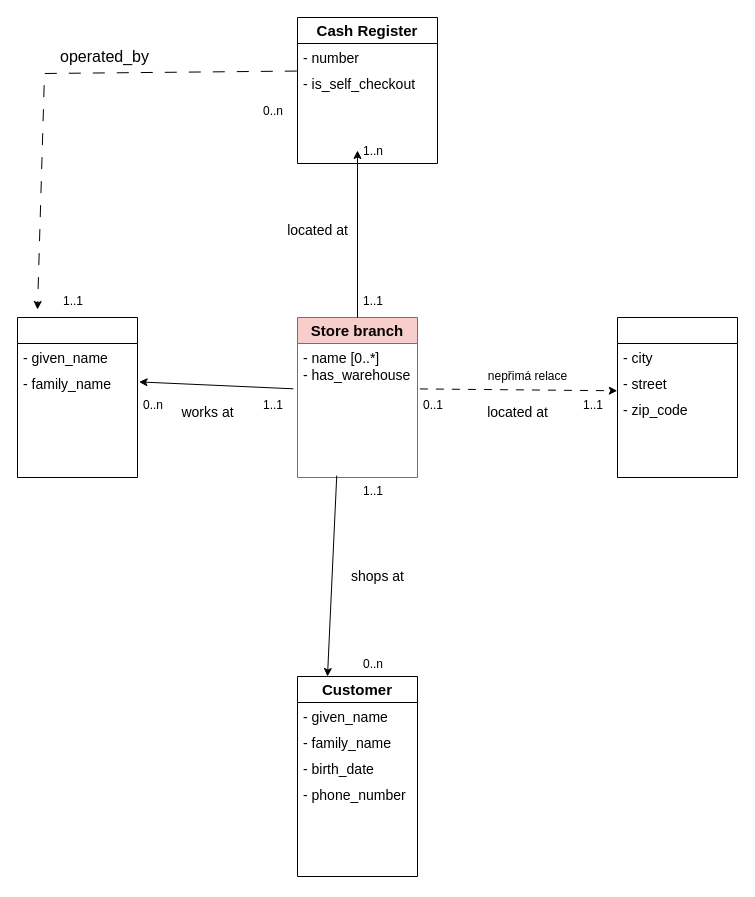
The diagram is 755 pixels wide and 897 high, and some of its shapes have lost their labels. The box of each missing label's shape, as (x1, y1, x2, y2) in pixels:
Address: (616, 316, 738, 478)
Employee: (16, 316, 138, 478)
